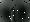person: (13, 7, 19, 21)
